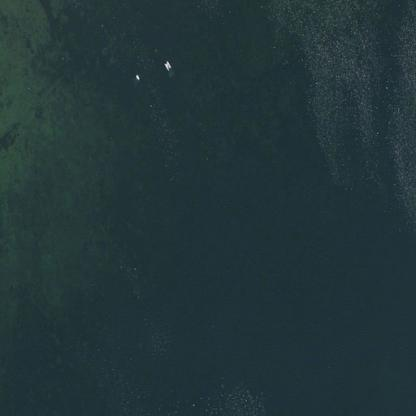ship: (160, 52, 176, 76), (130, 69, 143, 84)
